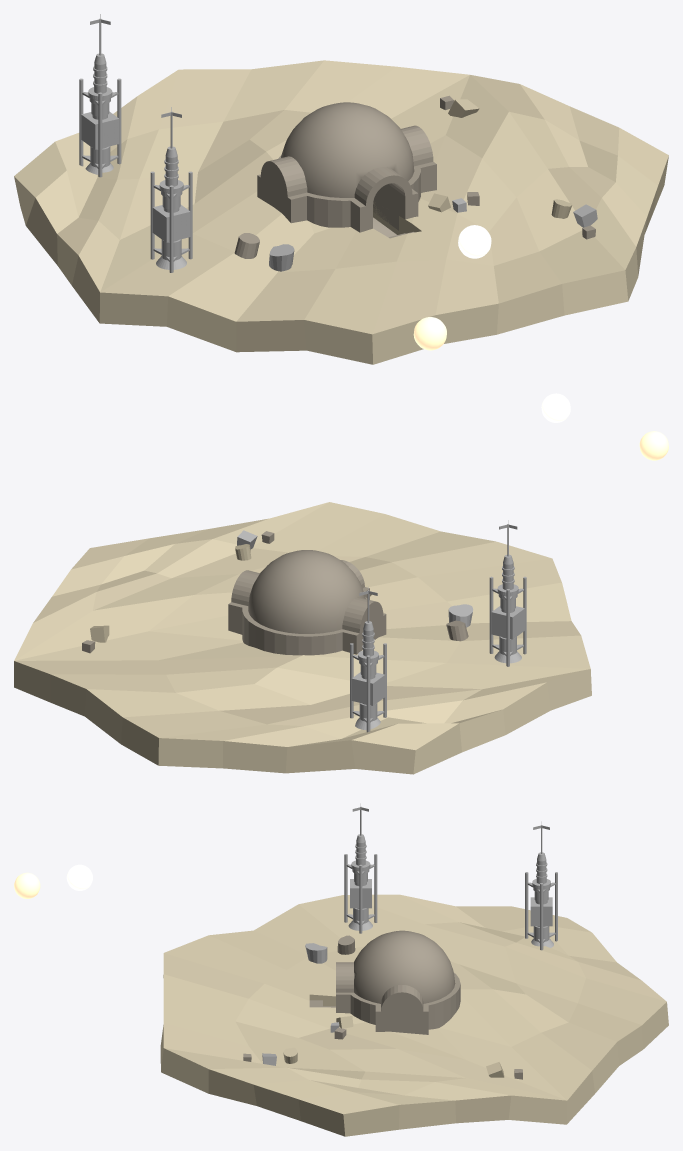
3 renders of one model, top to bottom at view 1: azimuth 30°, elevation 25°; view 2: azimuth 150°, elevation 25°; view 3: azimuth 270°, elevation 25°, orthographic. The views are drawn at different scales.
Visible parts, largest first — view 1: ground 1.001_2, house_main_3, house_left_5, house_around_7, house_front_4, house_right_6, Cube.009_43, Cube.001_26, Sphere.001_22, Sphere.002_23, Cylinder.022_13, Cylinder.023_15; view 2: ground 1.001_2, house_main_3, house_around_7, house_left_5, house_right_6, Cube.001_26, Cube.009_43, Sphere.002_23, Sphere.001_22; view 3: ground 1.001_2, house_main_3, house_right_6, house_around_7, house_front_4, Sphere.001_22, Sphere.002_23, Cube.001_26, Cube.009_43.
Part boxes in pixels (box(x1,y1,x2,y2)): ground 1.001_2: box(14, 60, 668, 364); house_main_3: box(281, 102, 414, 215); house_left_5: box(257, 156, 312, 223); house_around_7: box(278, 155, 420, 230); house_front_4: box(347, 167, 418, 232); house_right_6: box(401, 125, 436, 192); Cube.009_43: box(152, 204, 190, 242); Cube.001_26: box(81, 111, 119, 149); Sphere.001_22: box(458, 225, 491, 258); Sphere.002_23: box(413, 317, 446, 350); Cylinder.022_13: box(269, 244, 294, 271); Cylinder.023_15: box(234, 233, 259, 258); ground 1.001_2: box(14, 502, 591, 774); house_main_3: box(248, 550, 365, 633); house_around_7: box(242, 597, 367, 655); house_left_5: box(337, 597, 386, 654); house_right_6: box(228, 570, 259, 634); Cube.001_26: box(351, 672, 385, 705); Cube.009_43: box(491, 606, 524, 639); Sphere.002_23: box(639, 431, 668, 460); Sphere.001_22: box(541, 393, 570, 422); ground 1.001_2: box(160, 894, 668, 1136); house_main_3: box(354, 930, 455, 1003); house_right_6: box(375, 985, 428, 1034); house_around_7: box(349, 973, 460, 1029); house_front_4: box(336, 962, 355, 1013); Sphere.001_22: box(66, 864, 92, 890); Sphere.002_23: box(14, 872, 40, 898); Cube.001_26: box(530, 897, 552, 926); Cube.009_43: box(350, 879, 371, 908).
Size of the model in its own units: 39.06 by 16.17 by 49.49.
